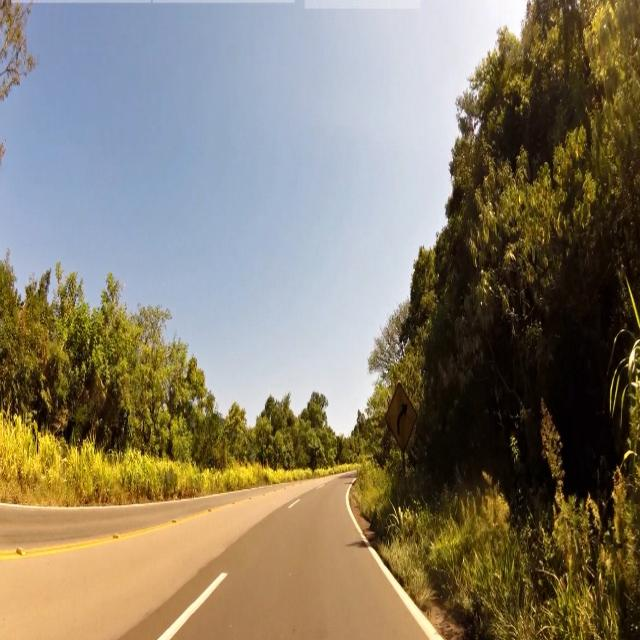A-2b: (386, 382, 418, 454)
